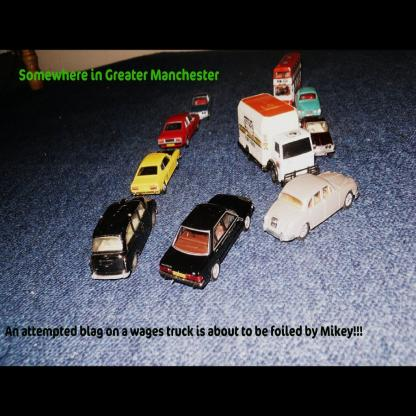Car: (159, 194, 257, 292), (264, 174, 360, 243), (91, 194, 158, 281), (132, 150, 183, 199), (158, 115, 201, 151), (307, 121, 335, 158), (295, 89, 323, 121)
